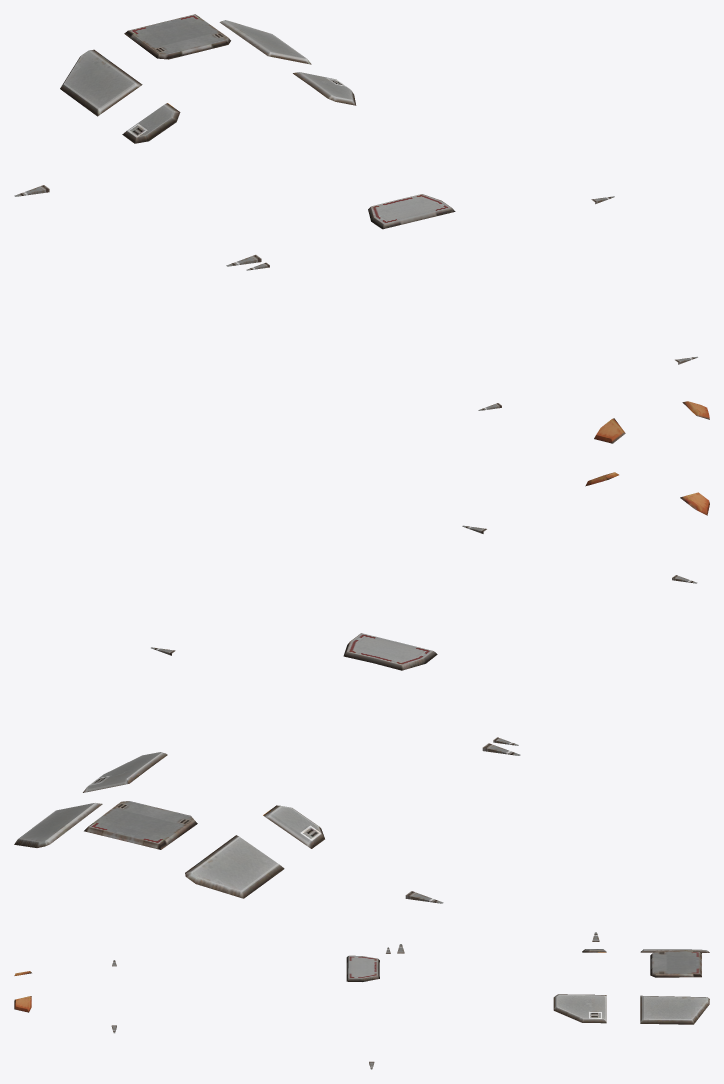
Rendered from hgn_cf_ionc_04_t1.glb.
3 renders of one model, top to bottom at view 1: azimuth 30°, elevation 25°; view 2: azimuth 150°, elevation 25°; view 3: azimuth 270°, elevation 25°, orthographic. The views are drawn at different scales.
Parts seen in each view (by area): view 1: hgn_ion_cannon_frigate_01_t1_LOD0; view 2: hgn_ion_cannon_frigate_01_t1_LOD0; view 3: hgn_ion_cannon_frigate_01_t1_LOD0.
Boxes of the visible parts, x1=… form: hgn_ion_cannon_frigate_01_t1_LOD0: x1=14, y1=14, x2=709, y2=443; hgn_ion_cannon_frigate_01_t1_LOD0: x1=14, y1=472, x2=709, y2=903; hgn_ion_cannon_frigate_01_t1_LOD0: x1=14, y1=932, x2=709, y2=1069.
Size of what is drawn, in the model's own units: 1.59 by 0.2295 by 3.2.
Materials: 1 (1 with a texture image).
